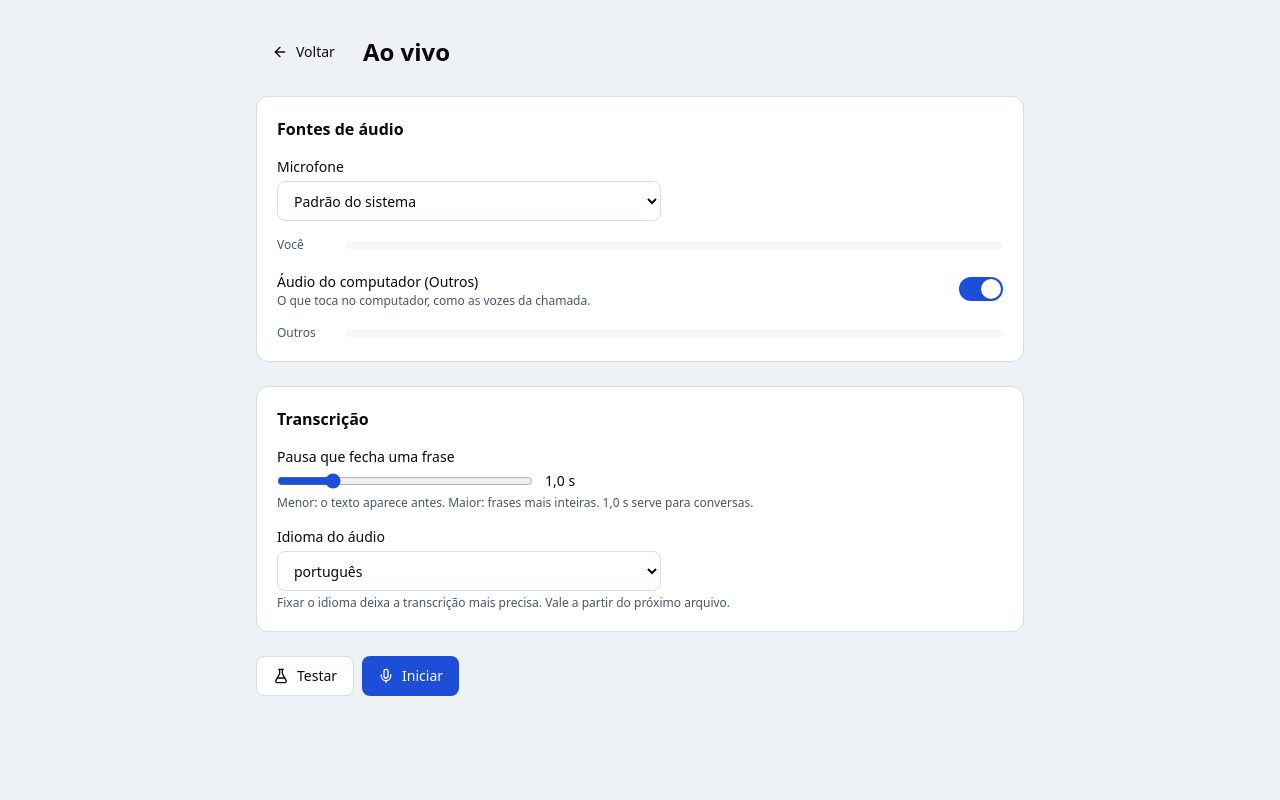
Scenario: Ao vivo — sessão › encerrando: botões desabilitados
The width and height of the screenshot is (1280, 800).
Click the button "Iniciar" at [411, 676], box left=362, top=656, right=459, bottom=696
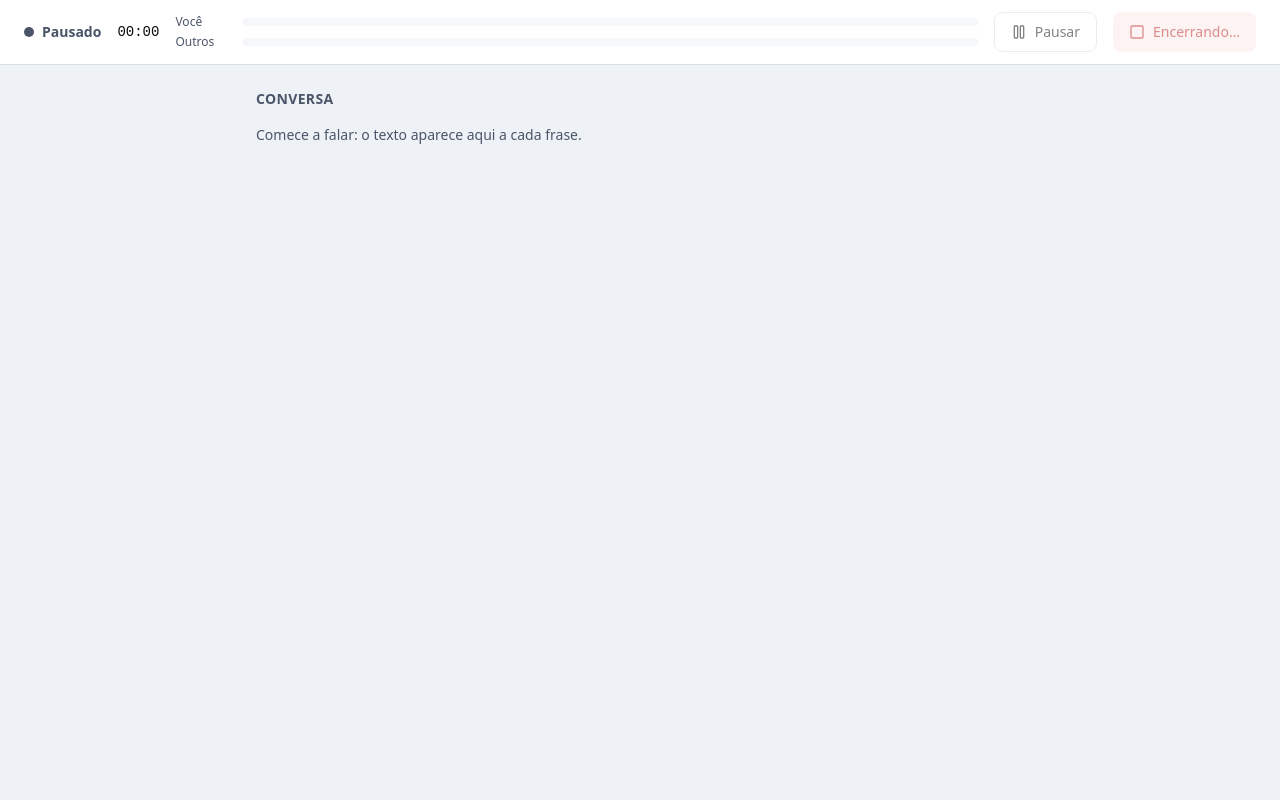
Expected: the button "Encerrando…" is disabled, left=1113, top=12, right=1256, bottom=52
Expected: the button "Pausar" is disabled, left=994, top=12, right=1097, bottom=52
